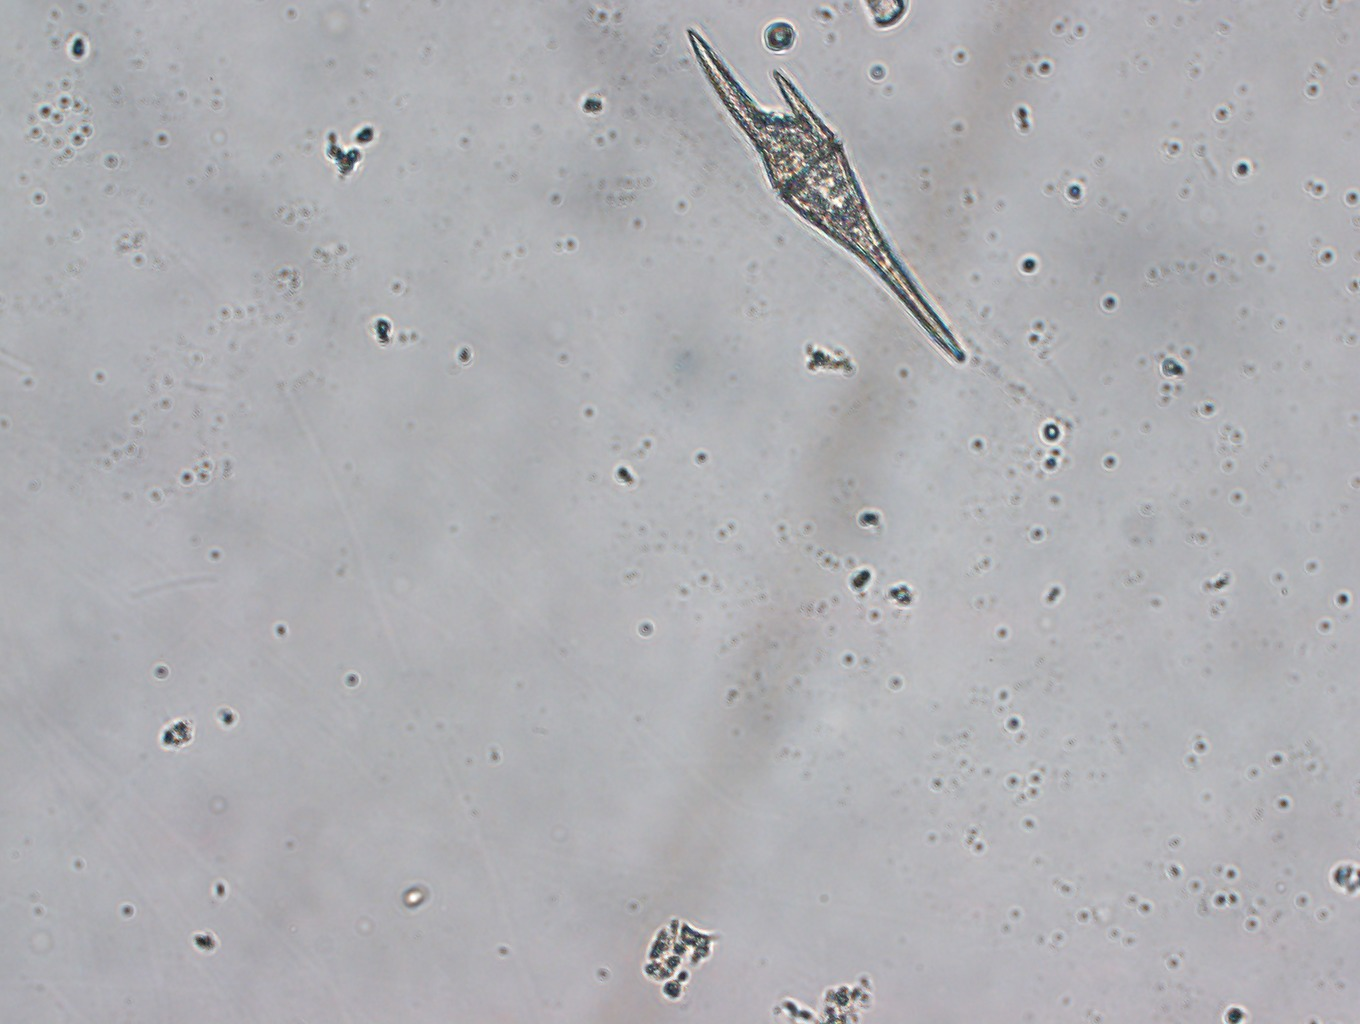ceratium furca: (685, 25, 969, 367)
